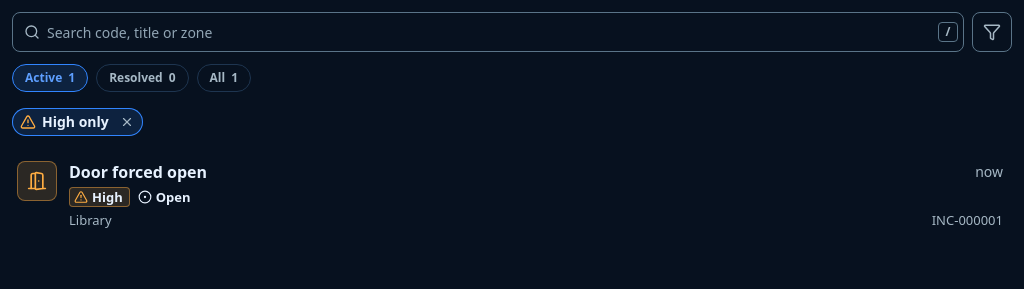
Test: IncidentFeed › severity filter › clears the severity filter from the chip and keeps focus in the feed
Click the button named "Clear severity filter" at [127, 122], box [115, 110, 139, 134]
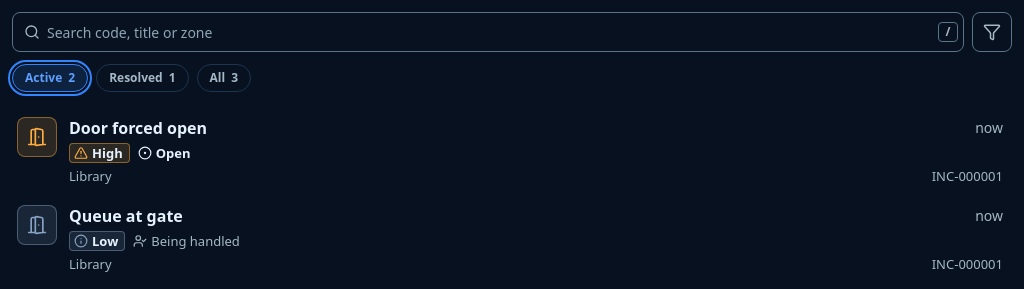
Expected: the text "High only" is gone
Expected: the text "Queue at gate" is shown, [69, 205, 183, 227]
